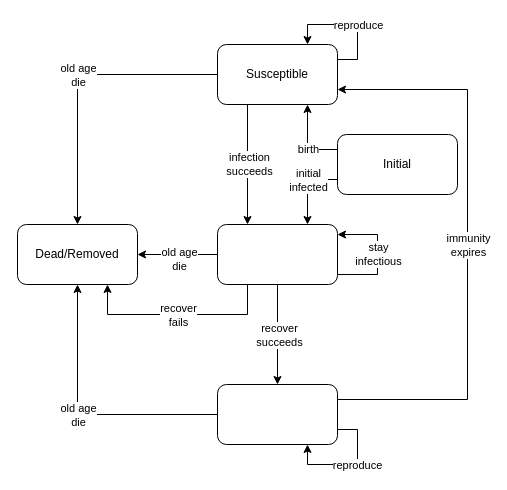
The diagram is 507 pixels wide and 490 high, and some of its shapes have lost their labels. Here are the shapes that lost their labels. From the top down, the centre of each, then its label:
[277,254]: Infectious
[277,414]: Immune
